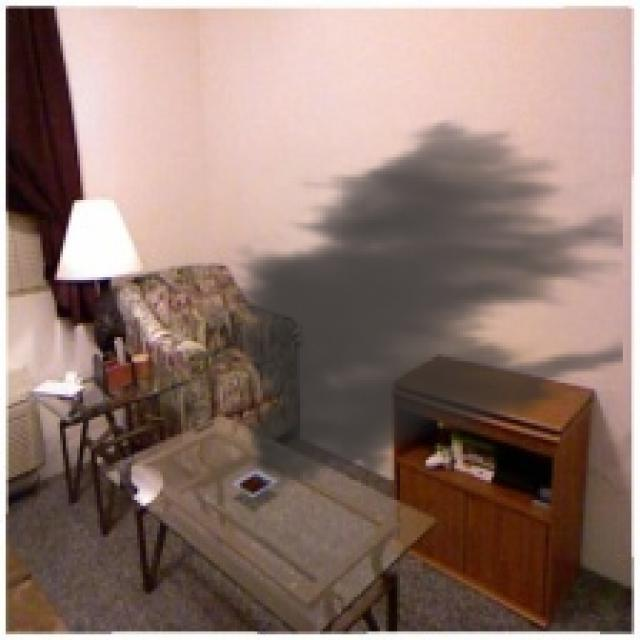smoke: (211, 108, 623, 503)
